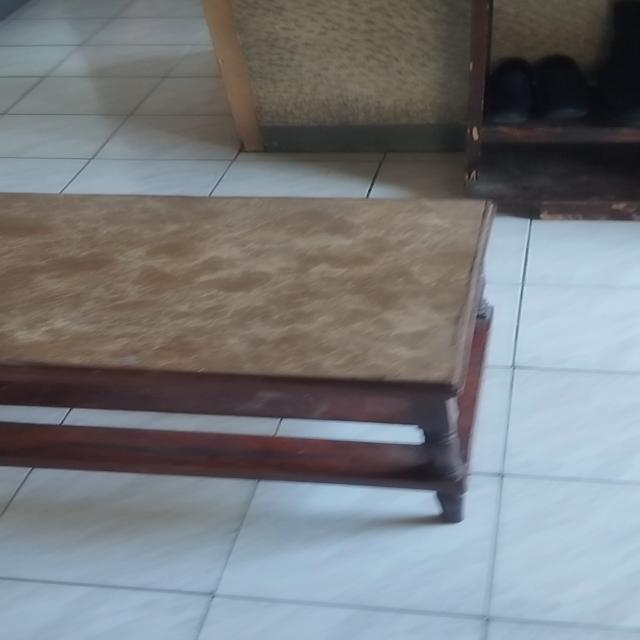table: (0, 181, 517, 525)
